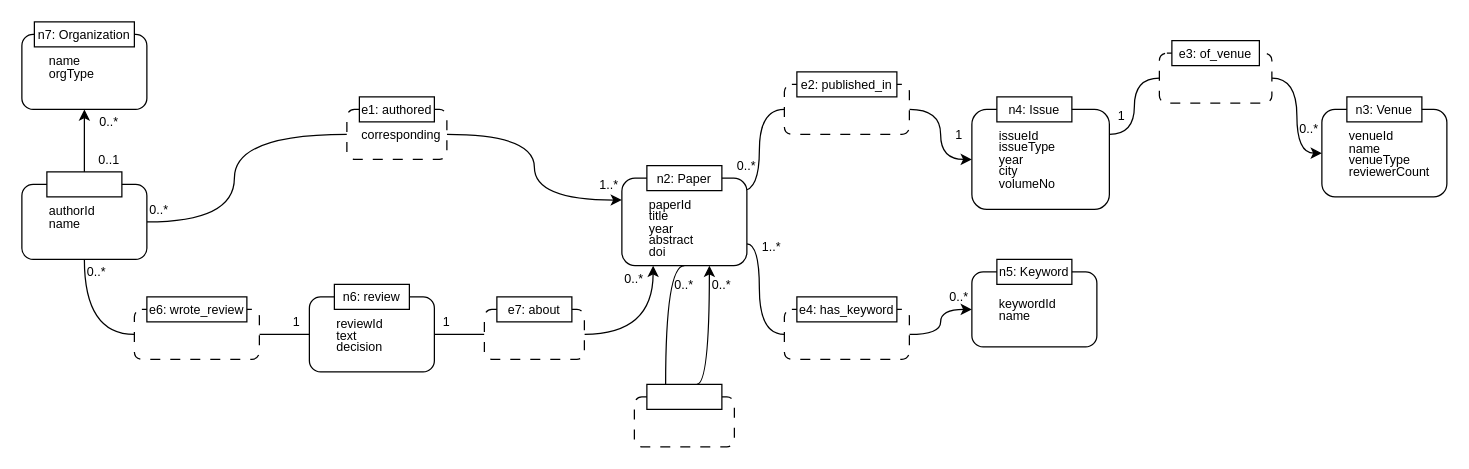
This 1469x469 diagram has some shape labels left out. Here are the shapes that lost their labels. From the top down, the box of each, then its label:
(46, 171, 122, 197): n1: Author
(646, 383, 722, 409): e5: cites
